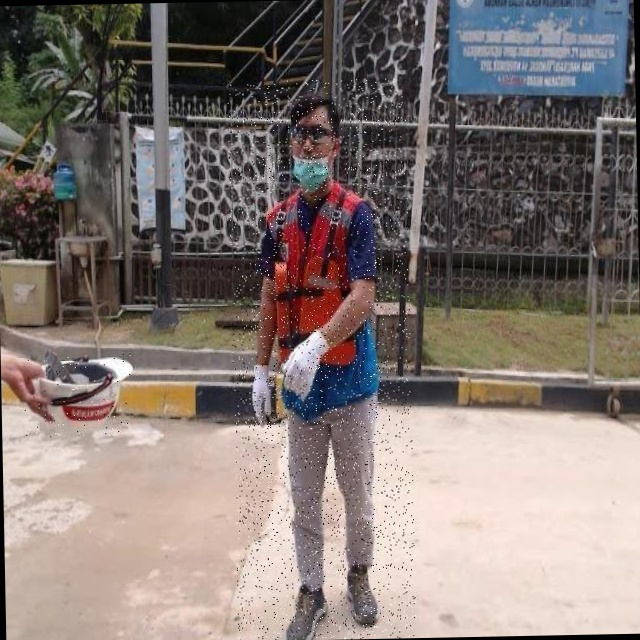boots: (316, 582, 361, 640), (266, 563, 301, 628)
gloves: (313, 329, 359, 402), (366, 361, 392, 425)
helmet: (508, 348, 617, 432)
vest: (264, 177, 370, 410)
